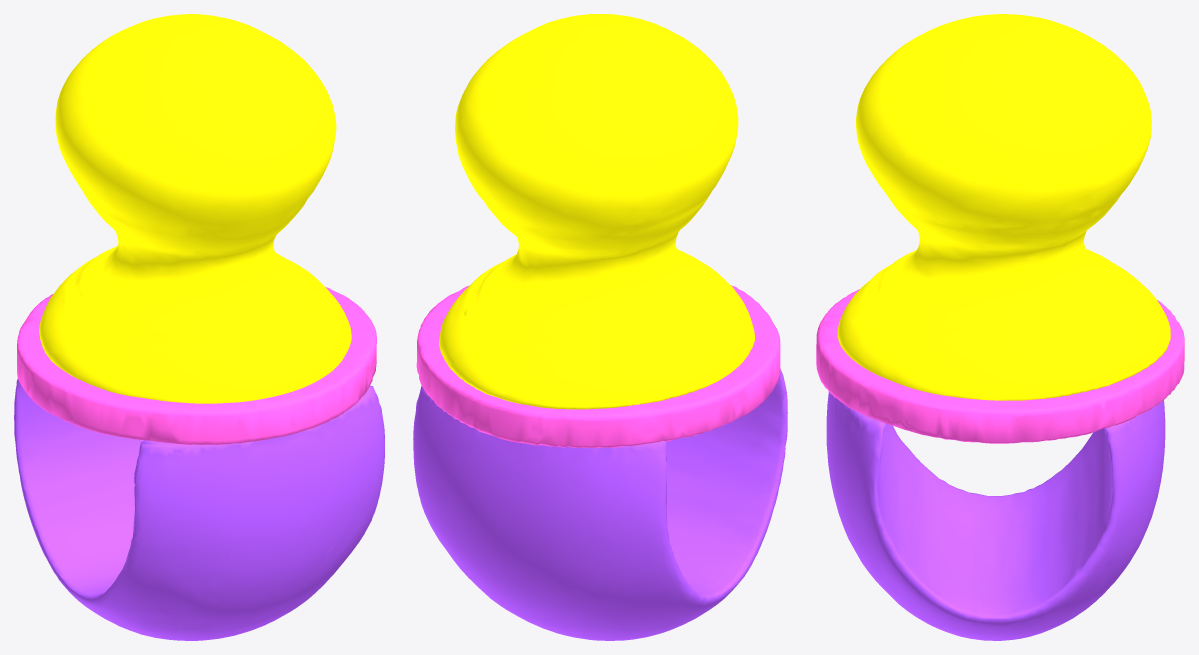
Rendered from ex1_gen2.glb.
3 views of the same model, side by side, from view 1: azimuth 30°, elevation 25°; view 2: azimuth 150°, elevation 25°; view 3: azimuth 270°, elevation 25° (orthographic).
Visible parts, largest first — view 1: geometry_2, geometry_0, geometry_1; view 2: geometry_2, geometry_0, geometry_1; view 3: geometry_2, geometry_0, geometry_1.
Part boxes in pixels (x1=…): geometry_2: x1=39, y1=14, x2=351, y2=403; geometry_0: x1=14, y1=378, x2=384, y2=640; geometry_1: x1=17, y1=287, x2=376, y2=444; geometry_2: x1=439, y1=14, x2=754, y2=409; geometry_0: x1=413, y1=368, x2=787, y2=640; geometry_1: x1=416, y1=285, x2=780, y2=448; geometry_2: x1=837, y1=14, x2=1170, y2=400; geometry_0: x1=826, y1=392, x2=1165, y2=640; geometry_1: x1=816, y1=289, x2=1184, y2=443.
Size of the model in its own units: 0.4501 by 0.8115 by 0.4581.
